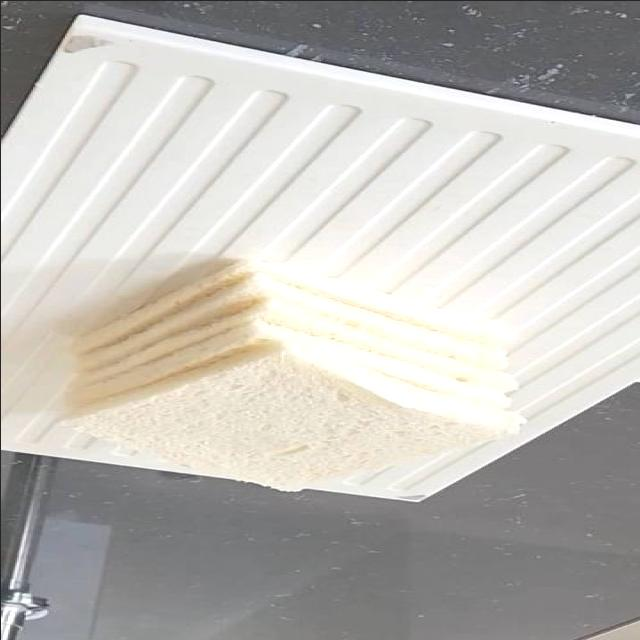roti tawar: (60, 350, 519, 490)
